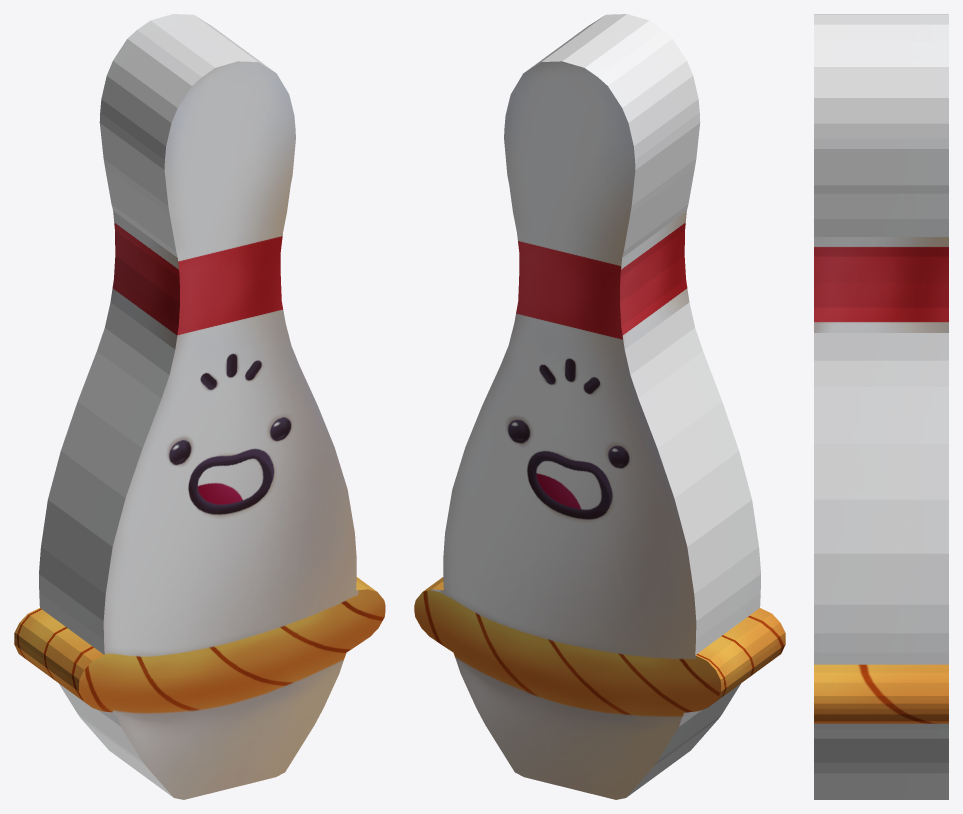
Rendered from pinNoHands.glb.
3 renders of one model, left to right at view 1: azimuth 30°, elevation 25°; view 2: azimuth 150°, elevation 25°; view 3: azimuth 270°, elevation 25°, orthographic. The views are drawn at different scales.
Parts seen in each view (by area): view 1: Cube; view 2: Cube; view 3: Cube.
Boxes of the visible parts, x1,y1,x2,y2 form: Cube: (14, 14, 385, 799); Cube: (414, 14, 785, 799); Cube: (814, 14, 948, 799).
Size of the model in its own units: 2.03 by 4.59 by 0.7437.
1 material, 1 textured.
